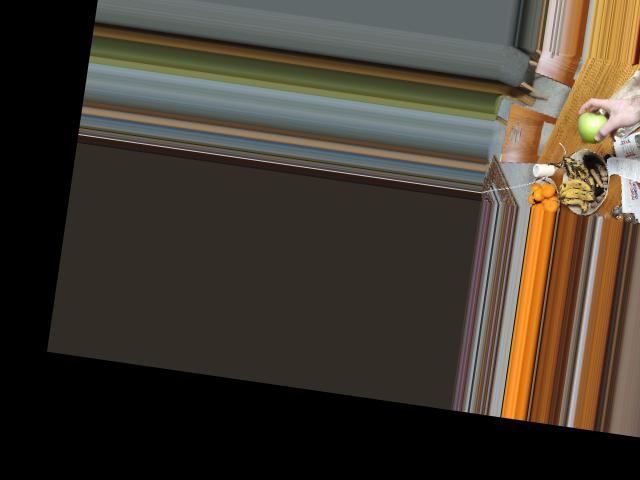apple: (574, 110, 614, 144)
